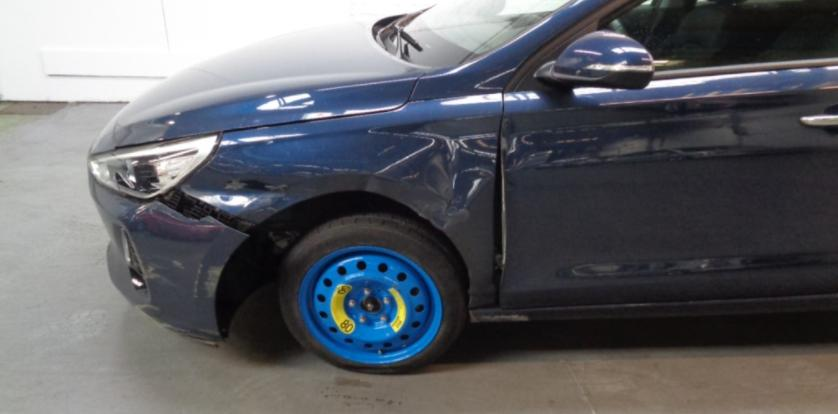Fender: (174, 94, 503, 310)
Front-bumper: (89, 173, 249, 346)
Front-door: (495, 0, 837, 308)
Front-wheel: (278, 212, 464, 373)
Front-window: (598, 0, 837, 78)
Headlight: (88, 132, 224, 202)
Hood: (89, 21, 429, 155)
Mirror: (517, 21, 654, 90)
Rocker-panel: (470, 293, 838, 323)
Windshield: (372, 1, 581, 68)
